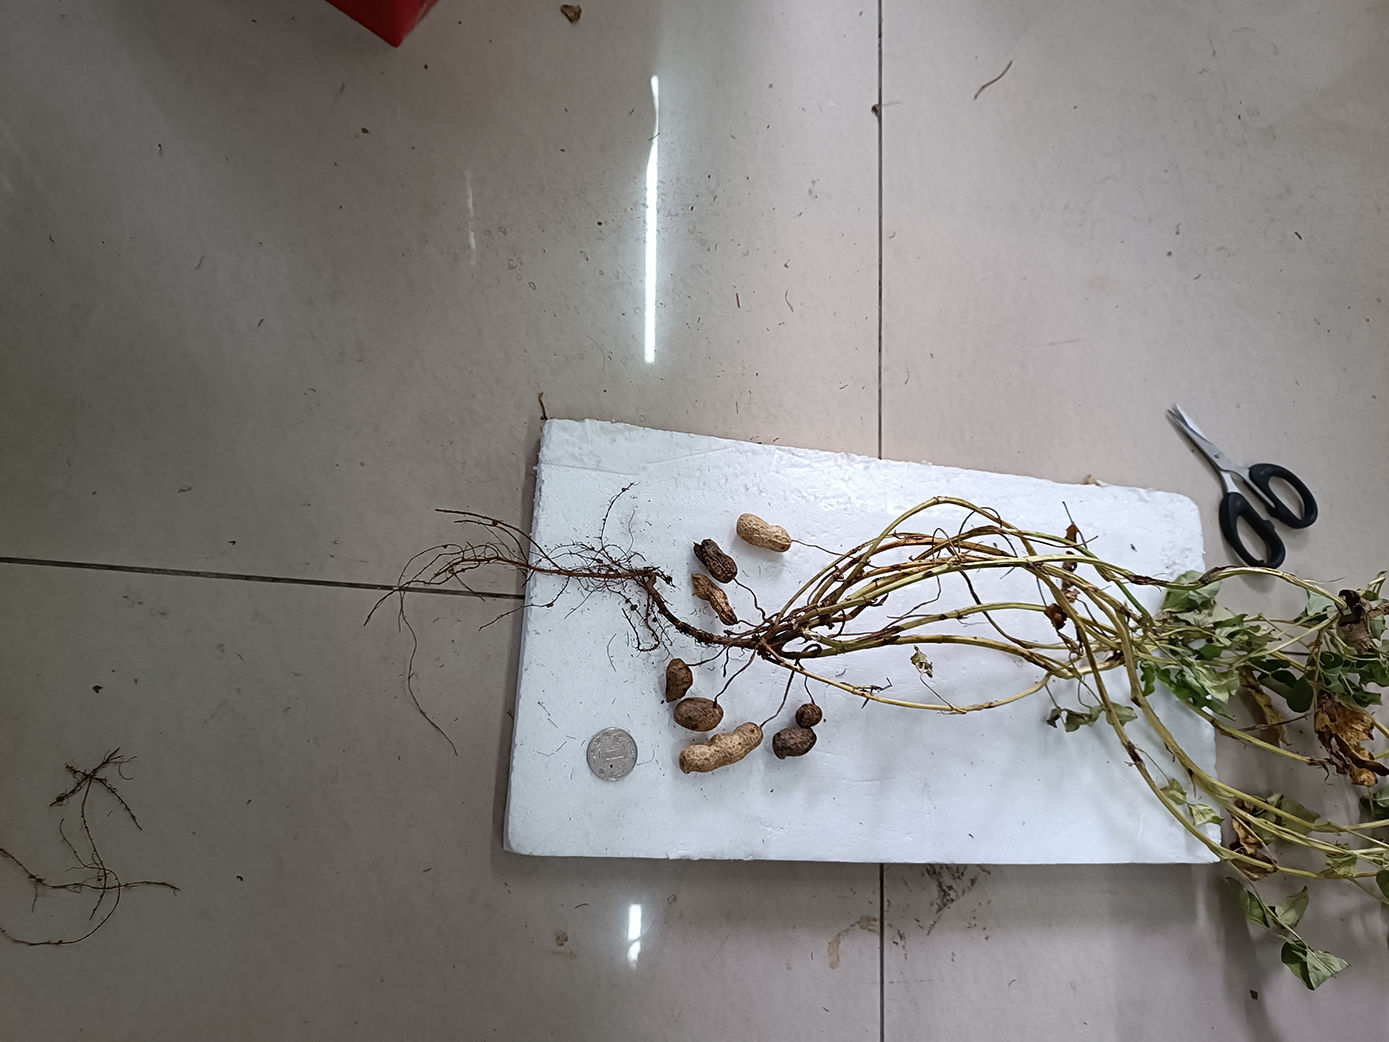h: (680, 723, 762, 775), (737, 513, 791, 553)
l: (692, 575, 737, 625), (692, 539, 738, 583), (673, 698, 724, 731), (772, 725, 817, 761), (665, 658, 693, 702), (795, 704, 824, 725)
